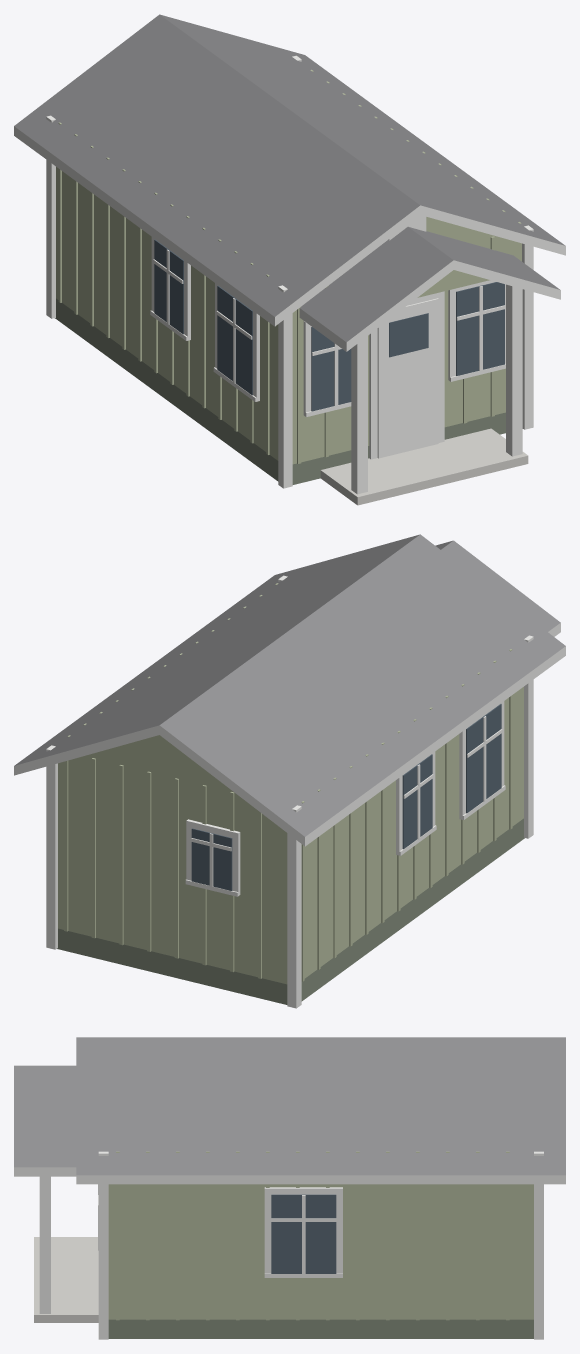
Rendered from pocket-sage.glb.
3 renders of one model, top to bottom at view 1: azimuth 30°, elevation 25°; view 2: azimuth 150°, elevation 25°; view 3: azimuth 270°, elevation 25°, orthographic. The views are drawn at different scales.
Parts seen in each view (by area): view 1: The Pocket (sage); view 2: The Pocket (sage); view 3: The Pocket (sage).
Part boxes in pixels (box(x1,y1,x2,y2)): The Pocket (sage): box(14, 14, 565, 505); The Pocket (sage): box(14, 534, 565, 1008); The Pocket (sage): box(14, 1037, 565, 1339).
Size of the model in its own units: 4.42 by 3.81 by 7.73.
